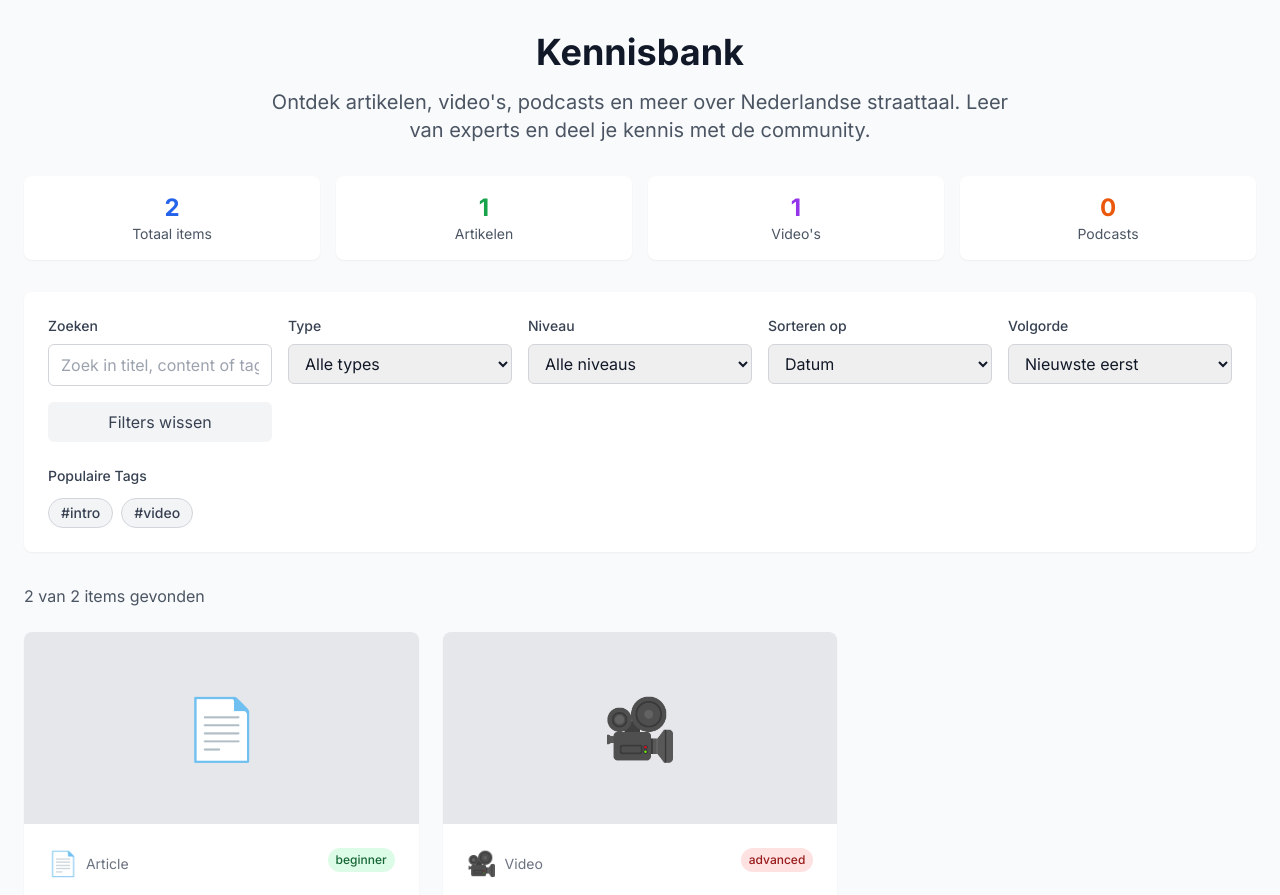
Test case: KnowledgeClient filters › filters by type
# Select type video
Select "🎥 Video's" in the dropdown labelled "Type" at (400, 364), box [288,344,512,384]
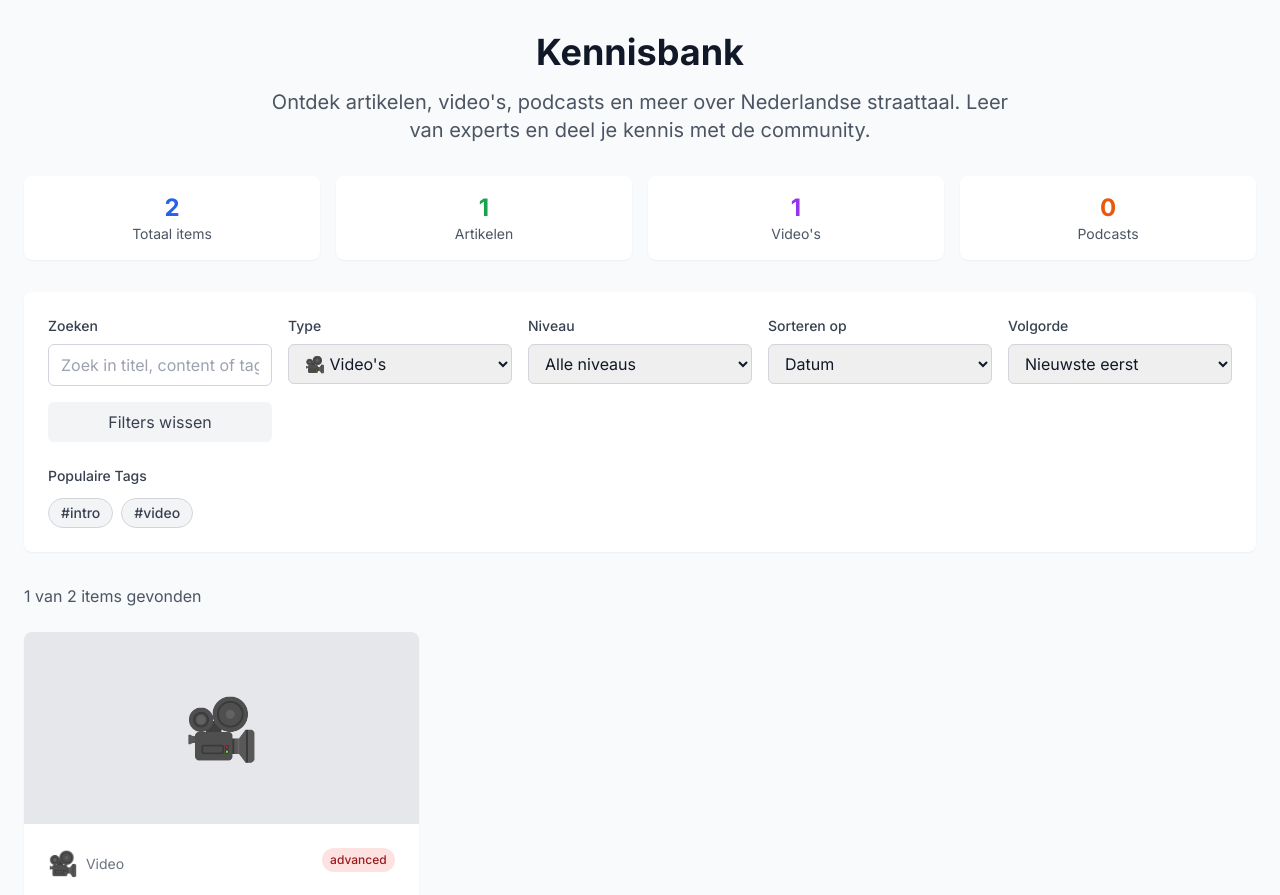
Expected: the text "1 van 2 items gevonden" is shown, [24,586,202,606]
